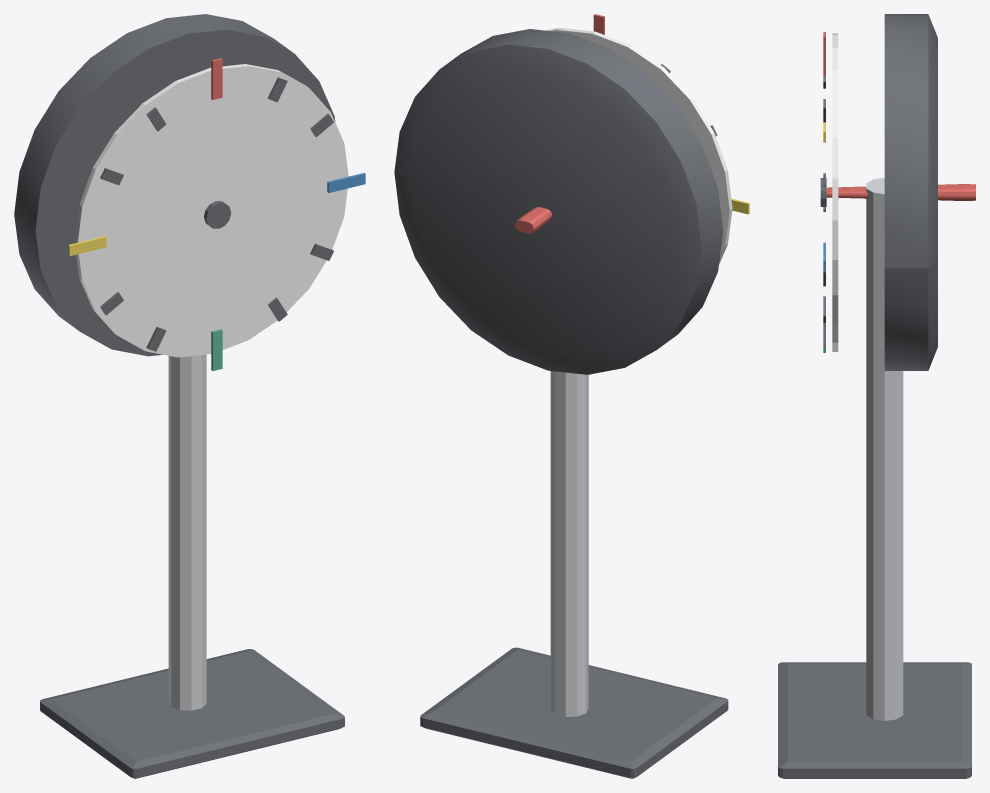
Rendered from public-swimming-baths-and-poolside-poolside-pace-clock-d475f331__35258.glb.
3 renders of one model, left to right at view 1: azimuth 30°, elevation 25°; view 2: azimuth 150°, elevation 25°; view 3: azimuth 270°, elevation 25°, orthographic. The views are drawn at different scales.
Parts seen in each view (by area): view 1: poolside-pace-clock; view 2: poolside-pace-clock, clock-hand/red; view 3: poolside-pace-clock, clock-hand/red.
Boxes of the visible parts, box(x1,y1,x2,y2) form: poolside-pace-clock: box(14, 14, 365, 778); poolside-pace-clock: box(394, 14, 749, 778); clock-hand/red: box(515, 207, 551, 233); poolside-pace-clock: box(778, 14, 971, 778); clock-hand/red: box(826, 184, 975, 200).
Size of the model in its own units: 0.7399 by 1.59 by 0.408.
